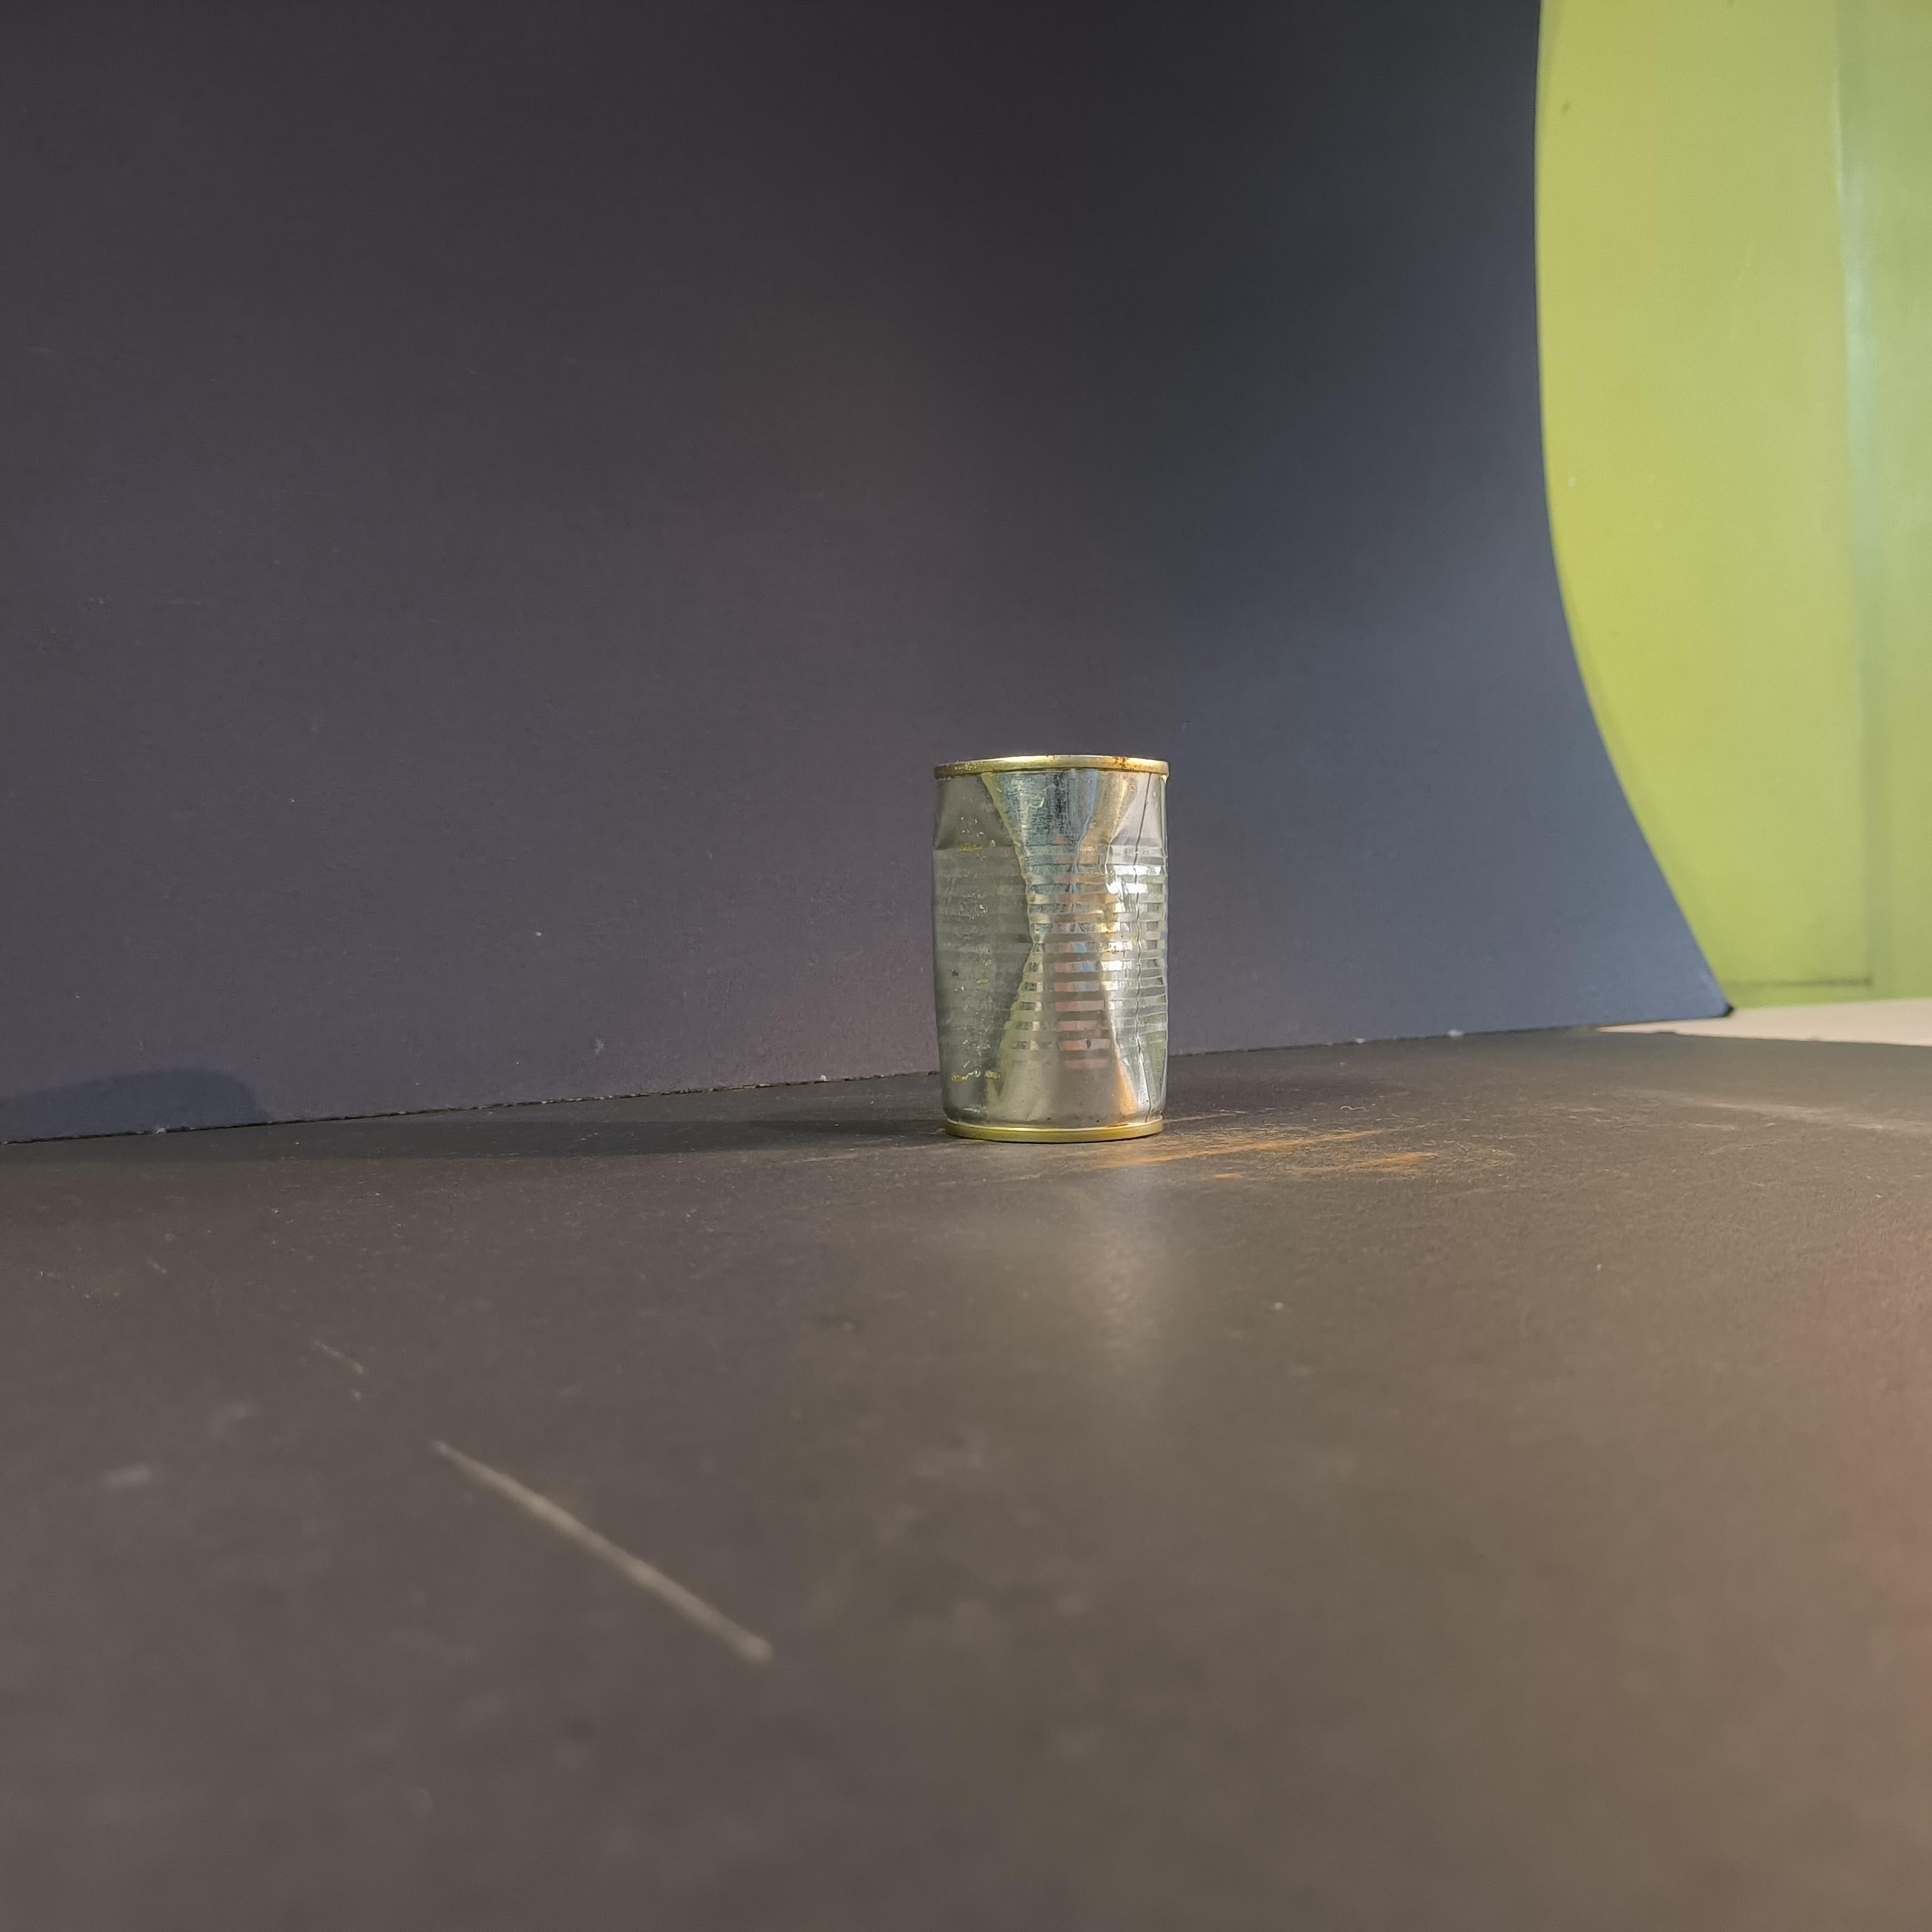Dented: (902, 725, 1191, 1182)
